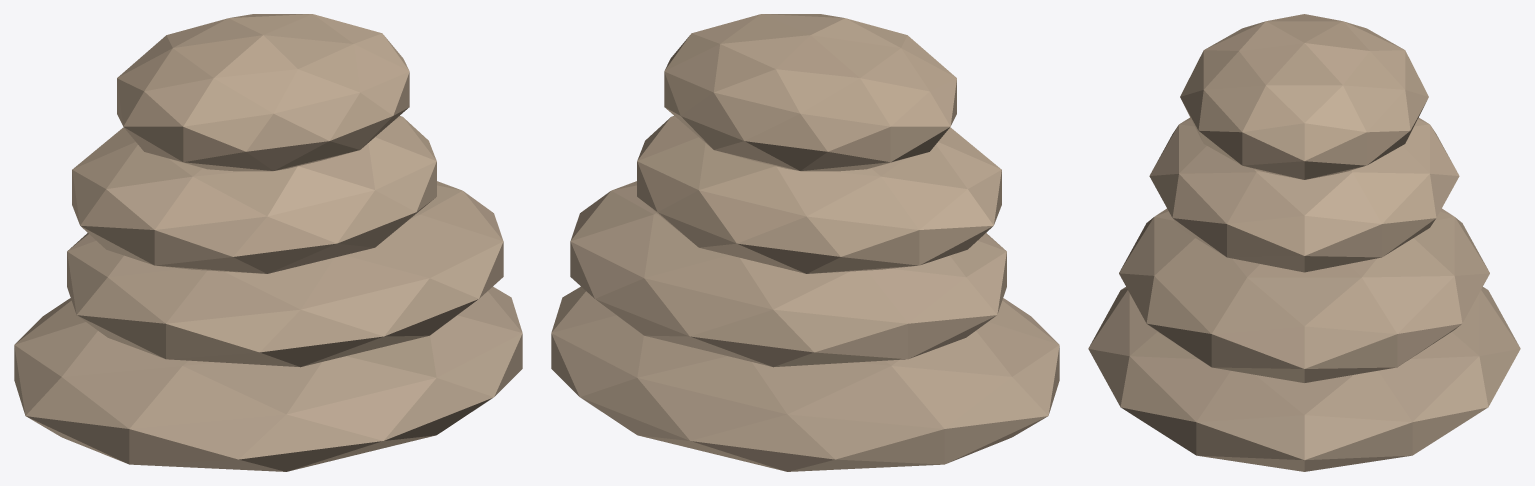
File: cairn_wide.glb
3 views of the same model, side by side, from view 1: azimuth 30°, elevation 25°; view 2: azimuth 150°, elevation 25°; view 3: azimuth 270°, elevation 25° (orthographic). The views are drawn at different scales.
Parts seen in each view (by area): view 1: stone_0, stone_1, stone_3, stone_2; view 2: stone_0, stone_1, stone_3, stone_2; view 3: stone_0, stone_1, stone_3, stone_2.
Boxes of the visible parts, bbox=[...] form: stone_0: bbox=[14, 286, 522, 471]; stone_1: bbox=[67, 181, 503, 367]; stone_3: bbox=[117, 14, 409, 171]; stone_2: bbox=[72, 116, 436, 273]; stone_0: bbox=[551, 286, 1059, 471]; stone_1: bbox=[570, 181, 1006, 367]; stone_3: bbox=[664, 14, 956, 171]; stone_2: bbox=[637, 116, 1001, 273]; stone_0: bbox=[1088, 287, 1520, 471]; stone_1: bbox=[1119, 208, 1489, 382]; stone_3: bbox=[1180, 14, 1428, 179]; stone_2: bbox=[1149, 117, 1459, 272].
Bounding box in the file's own units: 0.92 × 0.688 × 0.7544.
